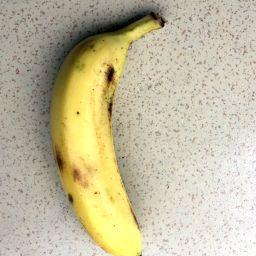Banana Ripe: (42, 17, 172, 256)
